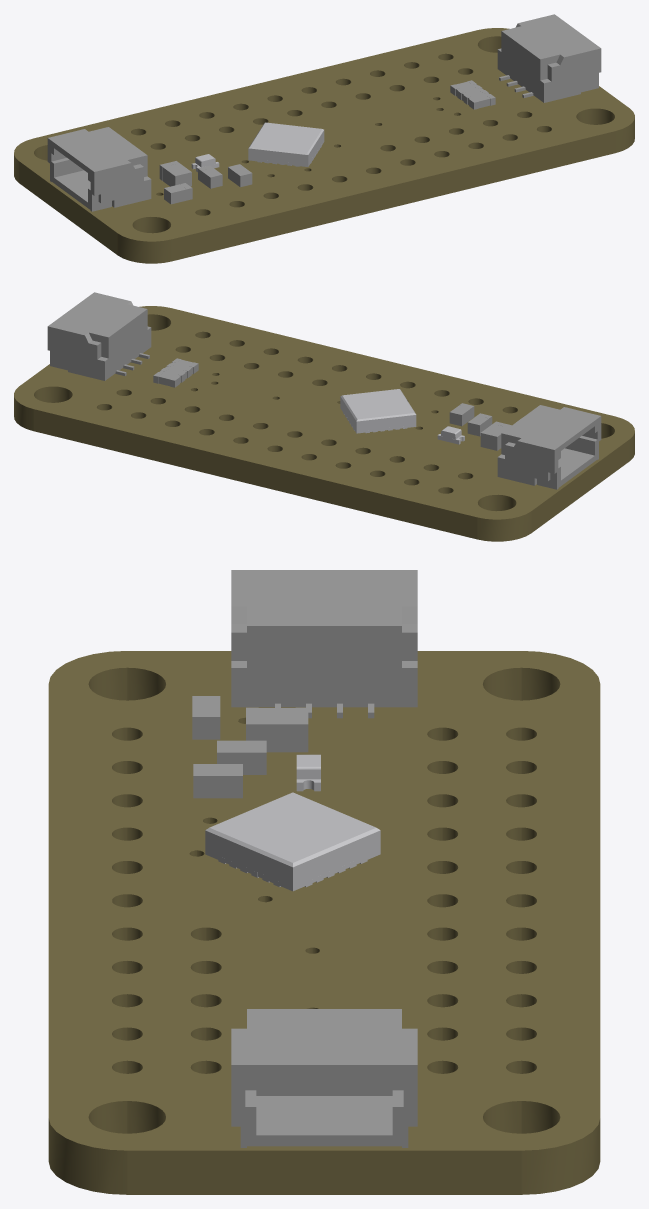
The model's file is ada-4886.glb.
3 renders of one model, top to bottom at view 1: azimuth 30°, elevation 25°; view 2: azimuth 150°, elevation 25°; view 3: azimuth 270°, elevation 25°, orthographic. The views are drawn at different scales.
Parts seen in each view (by area): view 1: 0.16666666666666666_0.16666666666666666_0.08333333333333333_, 0.3333333333333333_0.3333333333333333_0.3333333333333333_0, 0.5833333333333334_0.5833333333333334_0.5833333333333334_0.8; view 2: 0.16666666666666666_0.16666666666666666_0.08333333333333333_, 0.3333333333333333_0.3333333333333333_0.3333333333333333_0, 0.5833333333333334_0.5833333333333334_0.5833333333333334_0.8; view 3: 0.16666666666666666_0.16666666666666666_0.08333333333333333_, 0.3333333333333333_0.3333333333333333_0.3333333333333333_0, 0.5833333333333334_0.5833333333333334_0.5833333333333334_0.8.
Part boxes in pixels (x1,y1,x2,y2): 0.16666666666666666_0.16666666666666666_0.08333333333333333_: (14,28,634,263); 0.3333333333333333_0.3333333333333333_0.3333333333333333_0: (47,14,601,211); 0.5833333333333334_0.5833333333333334_0.5833333333333334_0.8: (191,122,324,172); 0.16666666666666666_0.16666666666666666_0.08333333333333333_: (14,306,634,541); 0.3333333333333333_0.3333333333333333_0.3333333333333333_0: (47,292,601,489); 0.5833333333333334_0.5833333333333334_0.5833333333333334_0.8: (340,389,464,444); 0.16666666666666666_0.16666666666666666_0.08333333333333333_: (48,651,600,1194); 0.3333333333333333_0.3333333333333333_0.3333333333333333_0: (192,570,417,1147); 0.5833333333333334_0.5833333333333334_0.5833333333333334_0.8: (205,754,380,891).
Bounding box in the file's own units: 3.81 × 0.4531 × 1.78.
